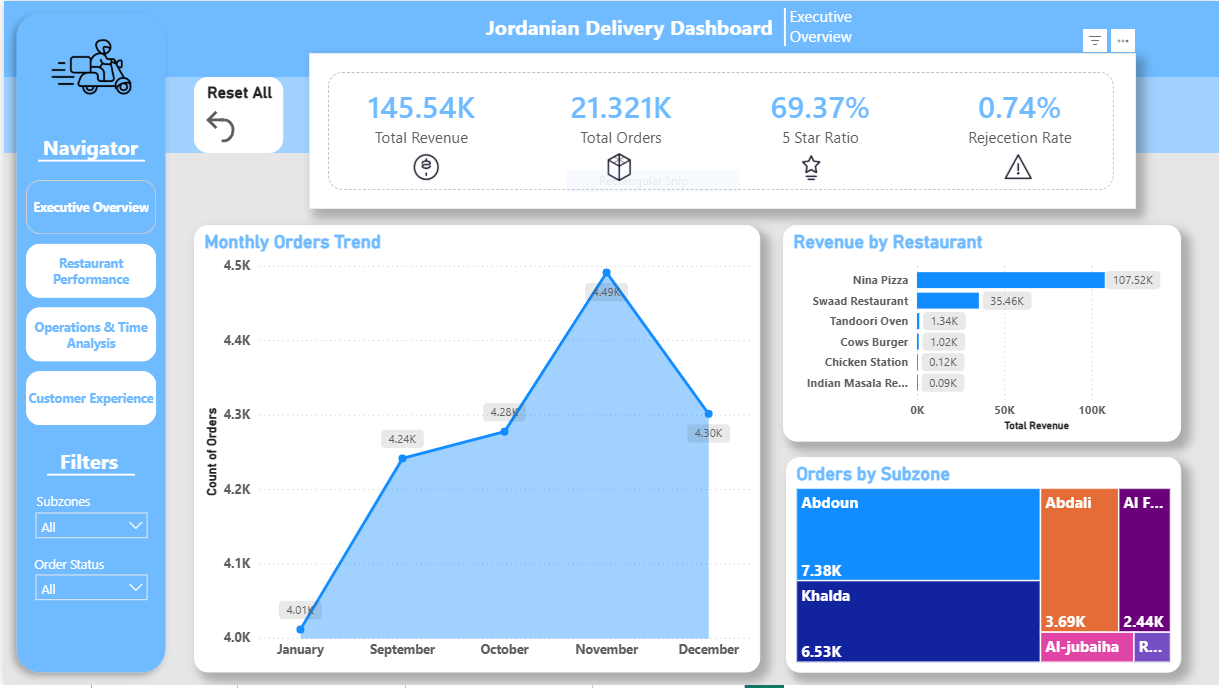

This screenshot's page, from the dashboard's own definition file:
{"tool":"powerbi","page":{"name":"Executive Overview","canvas":[1280,720],"ordinal":0},"visuals":[{"type":"textbox","box":[822.5,0,113.5,54.7],"z":0,"group":"g3"},{"type":"shape","box":[0,80,1280,80],"z":0},{"type":"image","box":[378.9,157.7,131.2,33.6],"z":0,"group":"g2"},{"type":"shape","box":[784.6,7.8,75.6,40],"z":1000,"group":"g3"},{"type":"image","box":[582.3,157.7,131.2,33.6],"z":1000,"group":"g2"},{"type":"lineChart","title":"Monthly Orders Trend","fields":{"Category":["order_history.Order Placed At.Variation.Date Hierarchy.Month"],"Y":["CountNonNull(order_history.Order ID)"]},"box":[200,235.7,595.7,471.4],"z":1000},{"type":"shape","box":[0,0,1280,80],"z":2000},{"type":"textbox","box":[502.5,7.6,320,54.7],"z":2000,"group":"g3"},{"type":"image","box":[784.4,157.7,131.2,33.6],"z":2000,"group":"g2"},{"type":"cardVisual","fields":{"Data":["Sum(order_history.Total)","CountNonNull(order_history.Order ID)","order_history.5 Star Ratio","order_history.Rejecetion Rate"]},"box":[321.1,54.4,870,164.4],"z":2500,"group":"g1"},{"type":"image","box":[1002.2,157.7,131.2,33.6],"z":3000,"group":"g2"},{"type":"barChart","title":"Revenue by Restaurant","fields":{"Y":["Sum(order_history.Total)"],"Category":["order_history.Restaurants Names"]},"box":[819.5,236.2,419.2,227.5],"z":3000},{"type":"shape","box":[0,0,183.2,719.9],"z":4000},{"type":"image","box":[41.6,27.3,100.1,84.5],"z":5000},{"type":"textbox","box":[36.2,133.8,112.6,42.6],"z":6000},{"type":"pageNavigator","box":[23.4,188.4,137.7,258.6],"z":7000},{"type":"shape","box":[36.2,133.8,112.5,68.8],"z":8000},{"type":"textbox","box":[25.8,464.2,126.3,41.6],"z":9000},{"type":"slicer","title":"Subzones","fields":{"Values":["order_history.Subzones"]},"box":[23,528,138,46],"z":10000},{"type":"slicer","title":"Subzones","fields":{"Values":["order_history.Order Status"]},"box":[23,594,138,46],"z":11000},{"type":"textbox","box":[10,513,104,30],"z":12000},{"type":"textbox","box":[23,579,91,30],"z":13000},{"type":"shape","box":[45,463.8,92.5,68.8],"z":14000},{"type":"treemap","title":"Orders by Subzone","fields":{"Group":["order_history.Subzones"],"Values":["CountNonNull(order_history.Order ID)"]},"box":[822.9,480,415.7,227],"z":15000},{"type":"actionButton","title":"Reset All","box":[200,80,94,80],"z":16000},{"type":"group","id":"g1","title":"Group 2","box":[321.1,54.4,870,164.4],"z":17000},{"type":"group","id":"g2","title":"Group 1","box":[378.9,157.7,754.4,33.3],"z":17000,"group":"g1"},{"type":"group","id":"g3","title":"Group 4","box":[502.5,0,433.8,62.5],"z":18000}]}

Visuals, with their boxes on the page's 1280x720 design canvas (x1, y1, x2, y2). These are canvas units, not pixel positions in the 1219x688 screenshot, which may show the page scaled, cropped or inside an application window:
textbox: [x1=822, y1=0, x2=936, y2=55]
shape: [x1=0, y1=80, x2=1280, y2=160]
image: [x1=379, y1=158, x2=510, y2=191]
shape: [x1=785, y1=8, x2=860, y2=48]
image: [x1=582, y1=158, x2=714, y2=191]
"Monthly Orders Trend" lineChart: [x1=200, y1=236, x2=796, y2=707]
shape: [x1=0, y1=0, x2=1280, y2=80]
textbox: [x1=502, y1=8, x2=822, y2=62]
image: [x1=784, y1=158, x2=916, y2=191]
cardVisual - Sum(order_history.Total) x CountNonNull(order_history.Order ID): [x1=321, y1=54, x2=1191, y2=219]
image: [x1=1002, y1=158, x2=1133, y2=191]
"Revenue by Restaurant" barChart: [x1=820, y1=236, x2=1239, y2=464]
shape: [x1=0, y1=0, x2=183, y2=720]
image: [x1=42, y1=27, x2=142, y2=112]
textbox: [x1=36, y1=134, x2=149, y2=176]
pageNavigator: [x1=23, y1=188, x2=161, y2=447]
shape: [x1=36, y1=134, x2=149, y2=203]
textbox: [x1=26, y1=464, x2=152, y2=506]
"Subzones" slicer: [x1=23, y1=528, x2=161, y2=574]
"Subzones" slicer: [x1=23, y1=594, x2=161, y2=640]
textbox: [x1=10, y1=513, x2=114, y2=543]
textbox: [x1=23, y1=579, x2=114, y2=609]
shape: [x1=45, y1=464, x2=138, y2=533]
"Orders by Subzone" treemap: [x1=823, y1=480, x2=1239, y2=707]
"Reset All" actionButton: [x1=200, y1=80, x2=294, y2=160]
"Group 2" group: [x1=321, y1=54, x2=1191, y2=219]
"Group 1" group: [x1=379, y1=158, x2=1133, y2=191]
"Group 4" group: [x1=502, y1=0, x2=936, y2=62]
